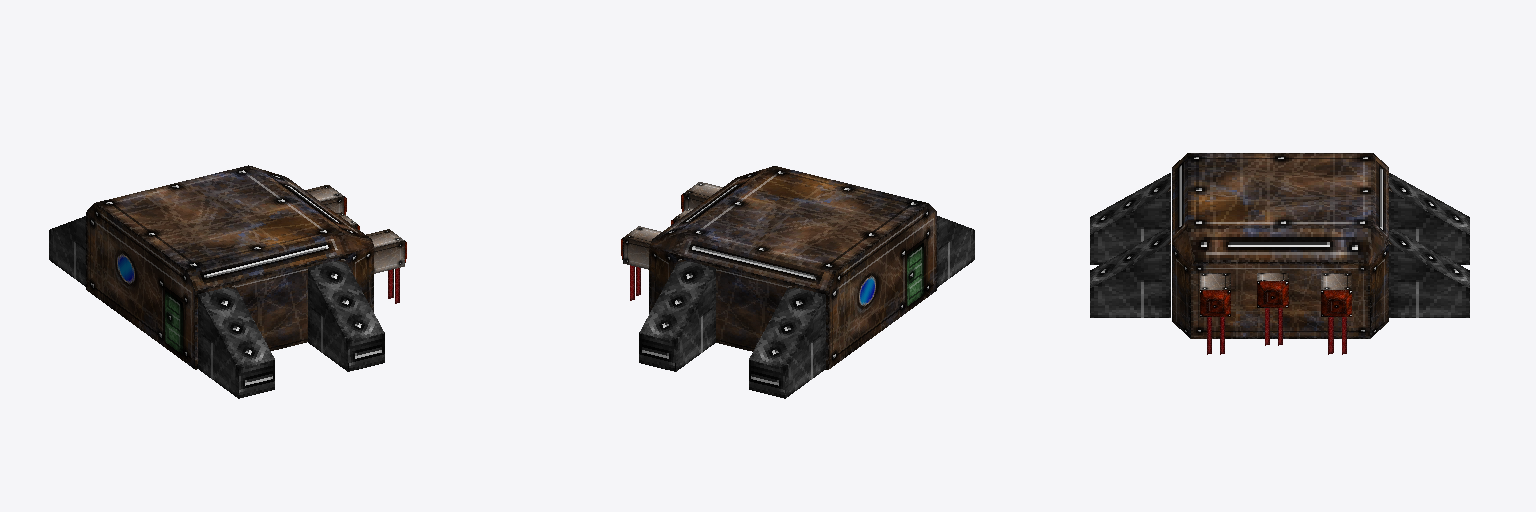
3 views of the same model, side by side, from view 1: azimuth 30°, elevation 25°; view 2: azimuth 150°, elevation 25°; view 3: azimuth 270°, elevation 25° (orthographic).
Visible parts, largest first — view 1: RadarBase; view 2: RadarBase; view 3: RadarBase.
Part boxes in pixels (bbox=[...]): RadarBase: bbox=[49, 165, 406, 398]; RadarBase: bbox=[621, 166, 974, 398]; RadarBase: bbox=[1090, 153, 1469, 354].
Bounding box in the file's own units: 20.03 × 7.83 × 28.67.
Materials: 1 (1 with a texture image).